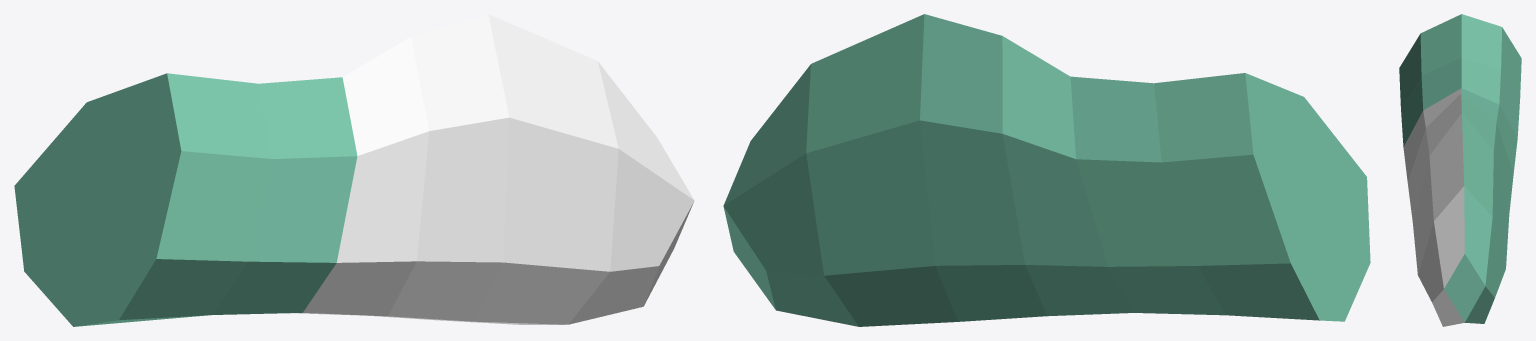
Rendered from cat_model left hand.obj.
The picture shows the model from 3 angles, left to right: view 1: azimuth 30°, elevation 25°; view 2: azimuth 150°, elevation 25°; view 3: azimuth 270°, elevation 25°; orthographic projection. The views are drawn at different scales.
Parts seen in each view (by area): view 1: Plane.000; view 2: Plane.000; view 3: Plane.000.
Boxes of the visible parts, <box> form: Plane.000: <box>14,14,694,326</box>; Plane.000: <box>723,14,1370,326</box>; Plane.000: <box>1399,14,1521,326</box>.
Bounding box in the file's own units: 0.5737 × 0.3015 × 0.1748.
